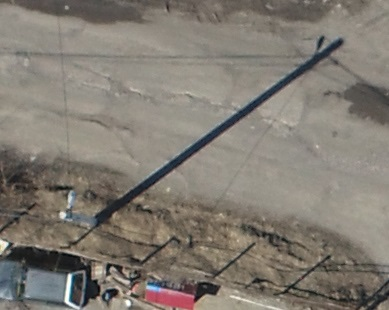opora: (57, 180, 138, 228)
